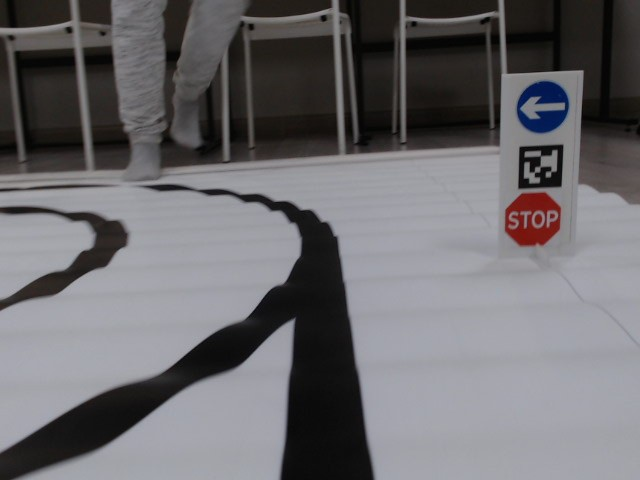Stop: (504, 193, 563, 248)
